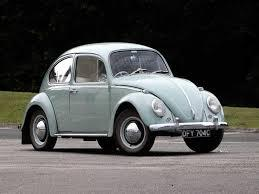volkswagen: (17, 42, 227, 154)
